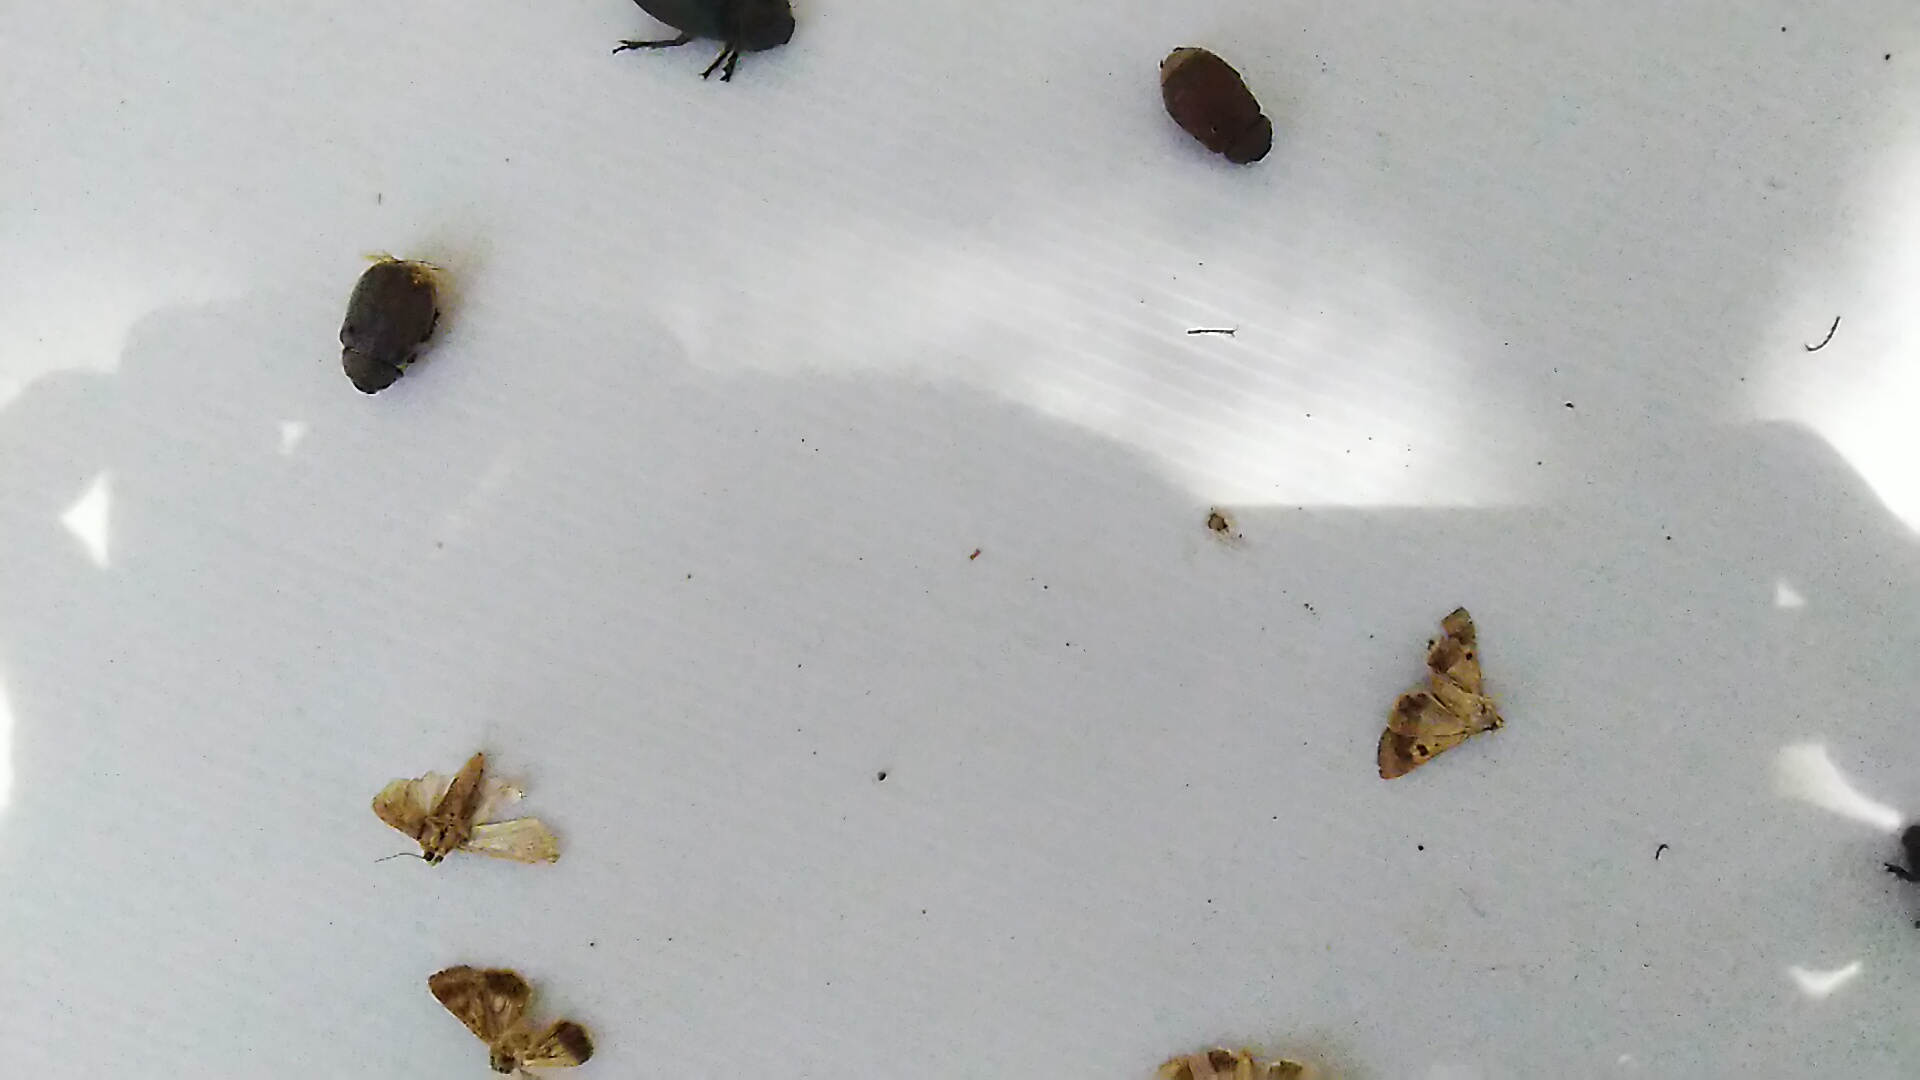INS-A: (331, 240, 464, 401), (1149, 36, 1284, 174)
INS-C: (1367, 588, 1509, 775), (422, 959, 597, 1080)
